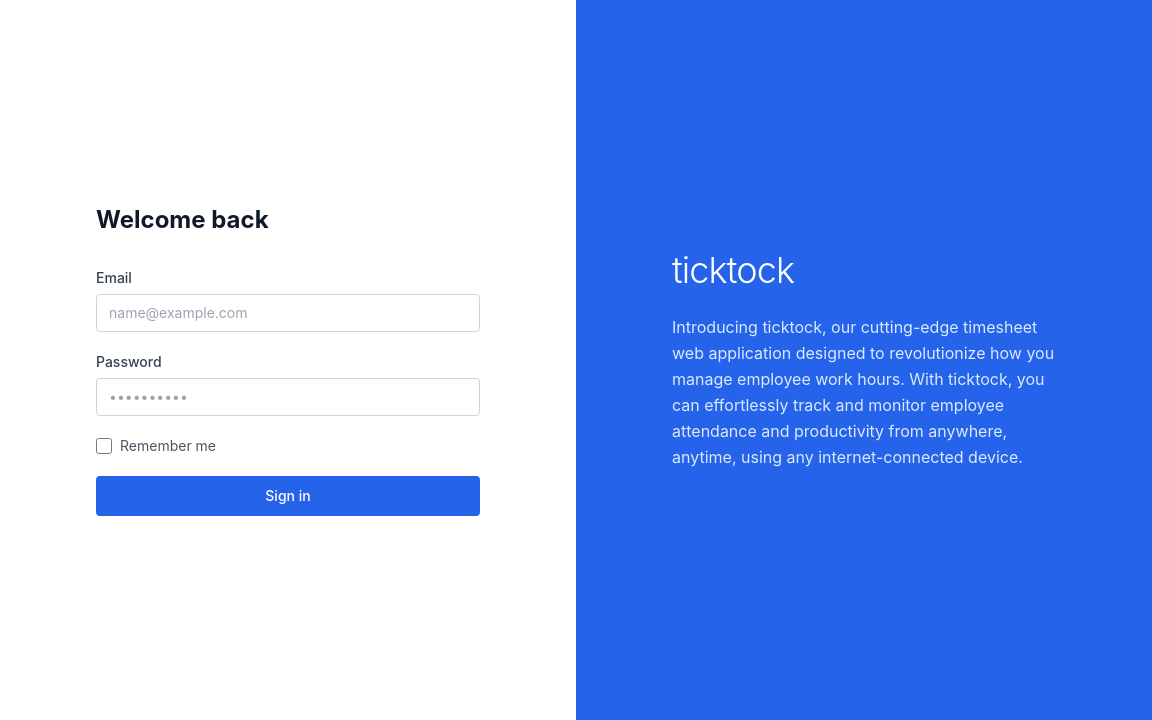
Test case: LoginForm › shows validation errors when form is submitted empty
The image size is (1152, 720).
What coordinates should you click on to do the following:
click the button "Sign in"
I would click on:
 (288, 496)
Its box is [96, 476, 480, 516].
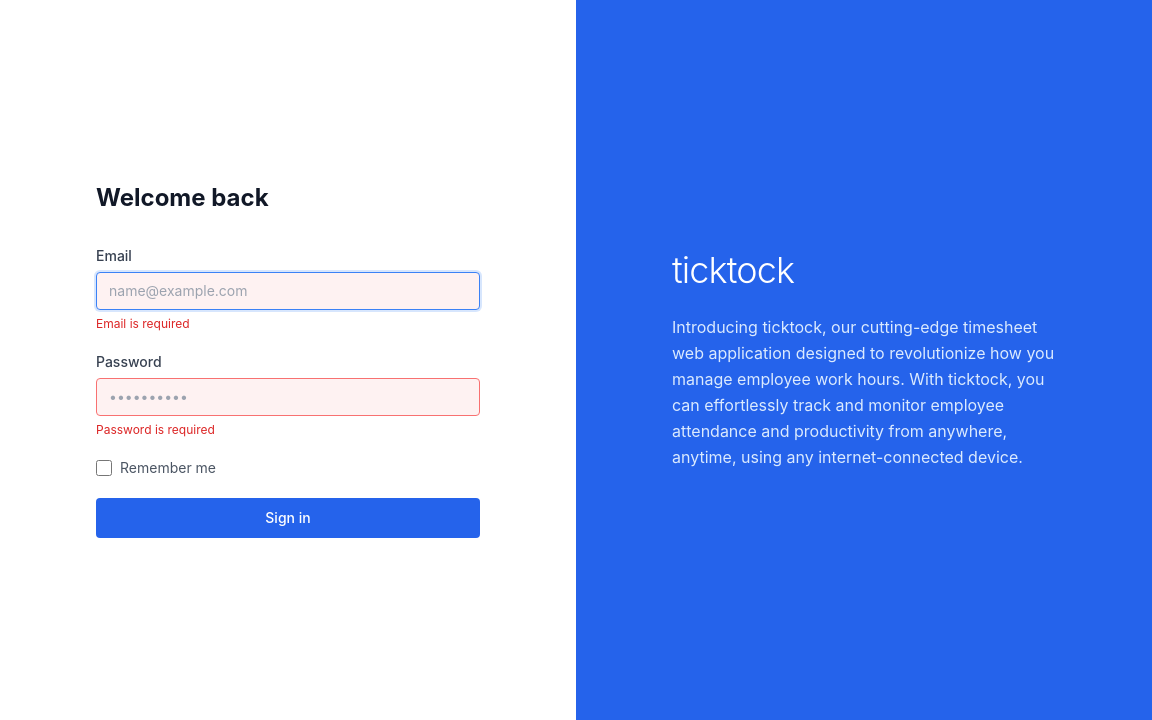
Now the text "Email is required" is shown, box [96, 316, 190, 331]
Now the text "Password is required" is shown, box [96, 422, 215, 437]
